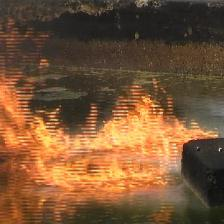fire: (1, 17, 208, 191)
